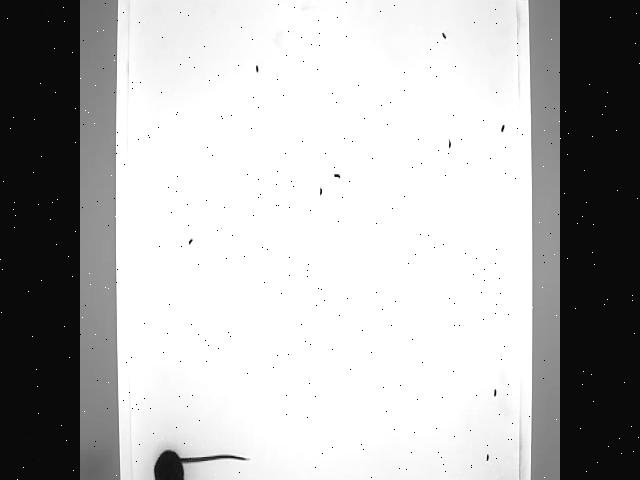Tikus: (152, 446, 251, 480)
